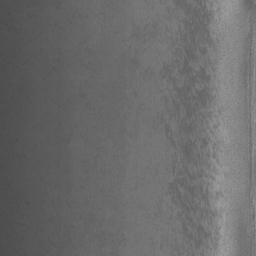Silk spot: (168, 136, 220, 256), (160, 56, 217, 125), (173, 0, 219, 74), (177, 119, 197, 136), (165, 124, 176, 148), (200, 123, 220, 134)
